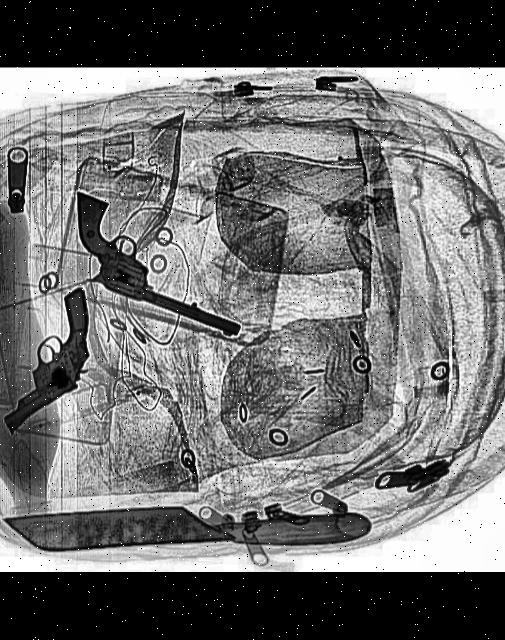Gun: (39, 191, 274, 342), (0, 284, 118, 446)
Knife: (3, 490, 370, 570)
